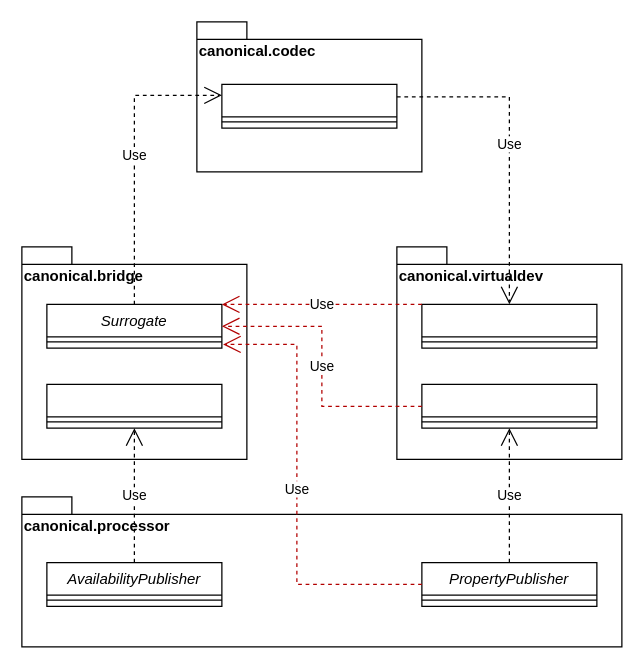
Some shapes in this 644 by 669 pixel diagram are drawn without their labels. The centre of each missing label's shape, as x and y in pixels:
"AbstractCodec" belongs at pixel 309 105.
"AvailabilityProcessor" belongs at pixel 134 405.
"VirtualDevice" belongs at pixel 509 325.
"VirtualDeviceProcessor" belongs at pixel 509 405.
